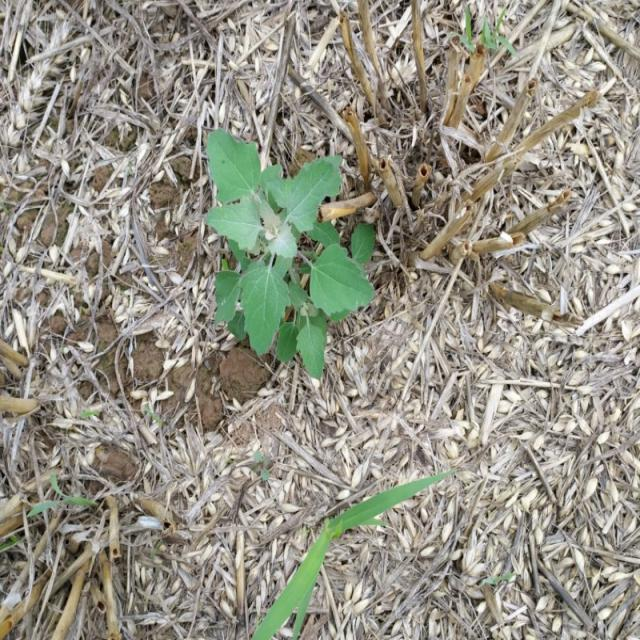goosefoots: (170, 123, 364, 383)
